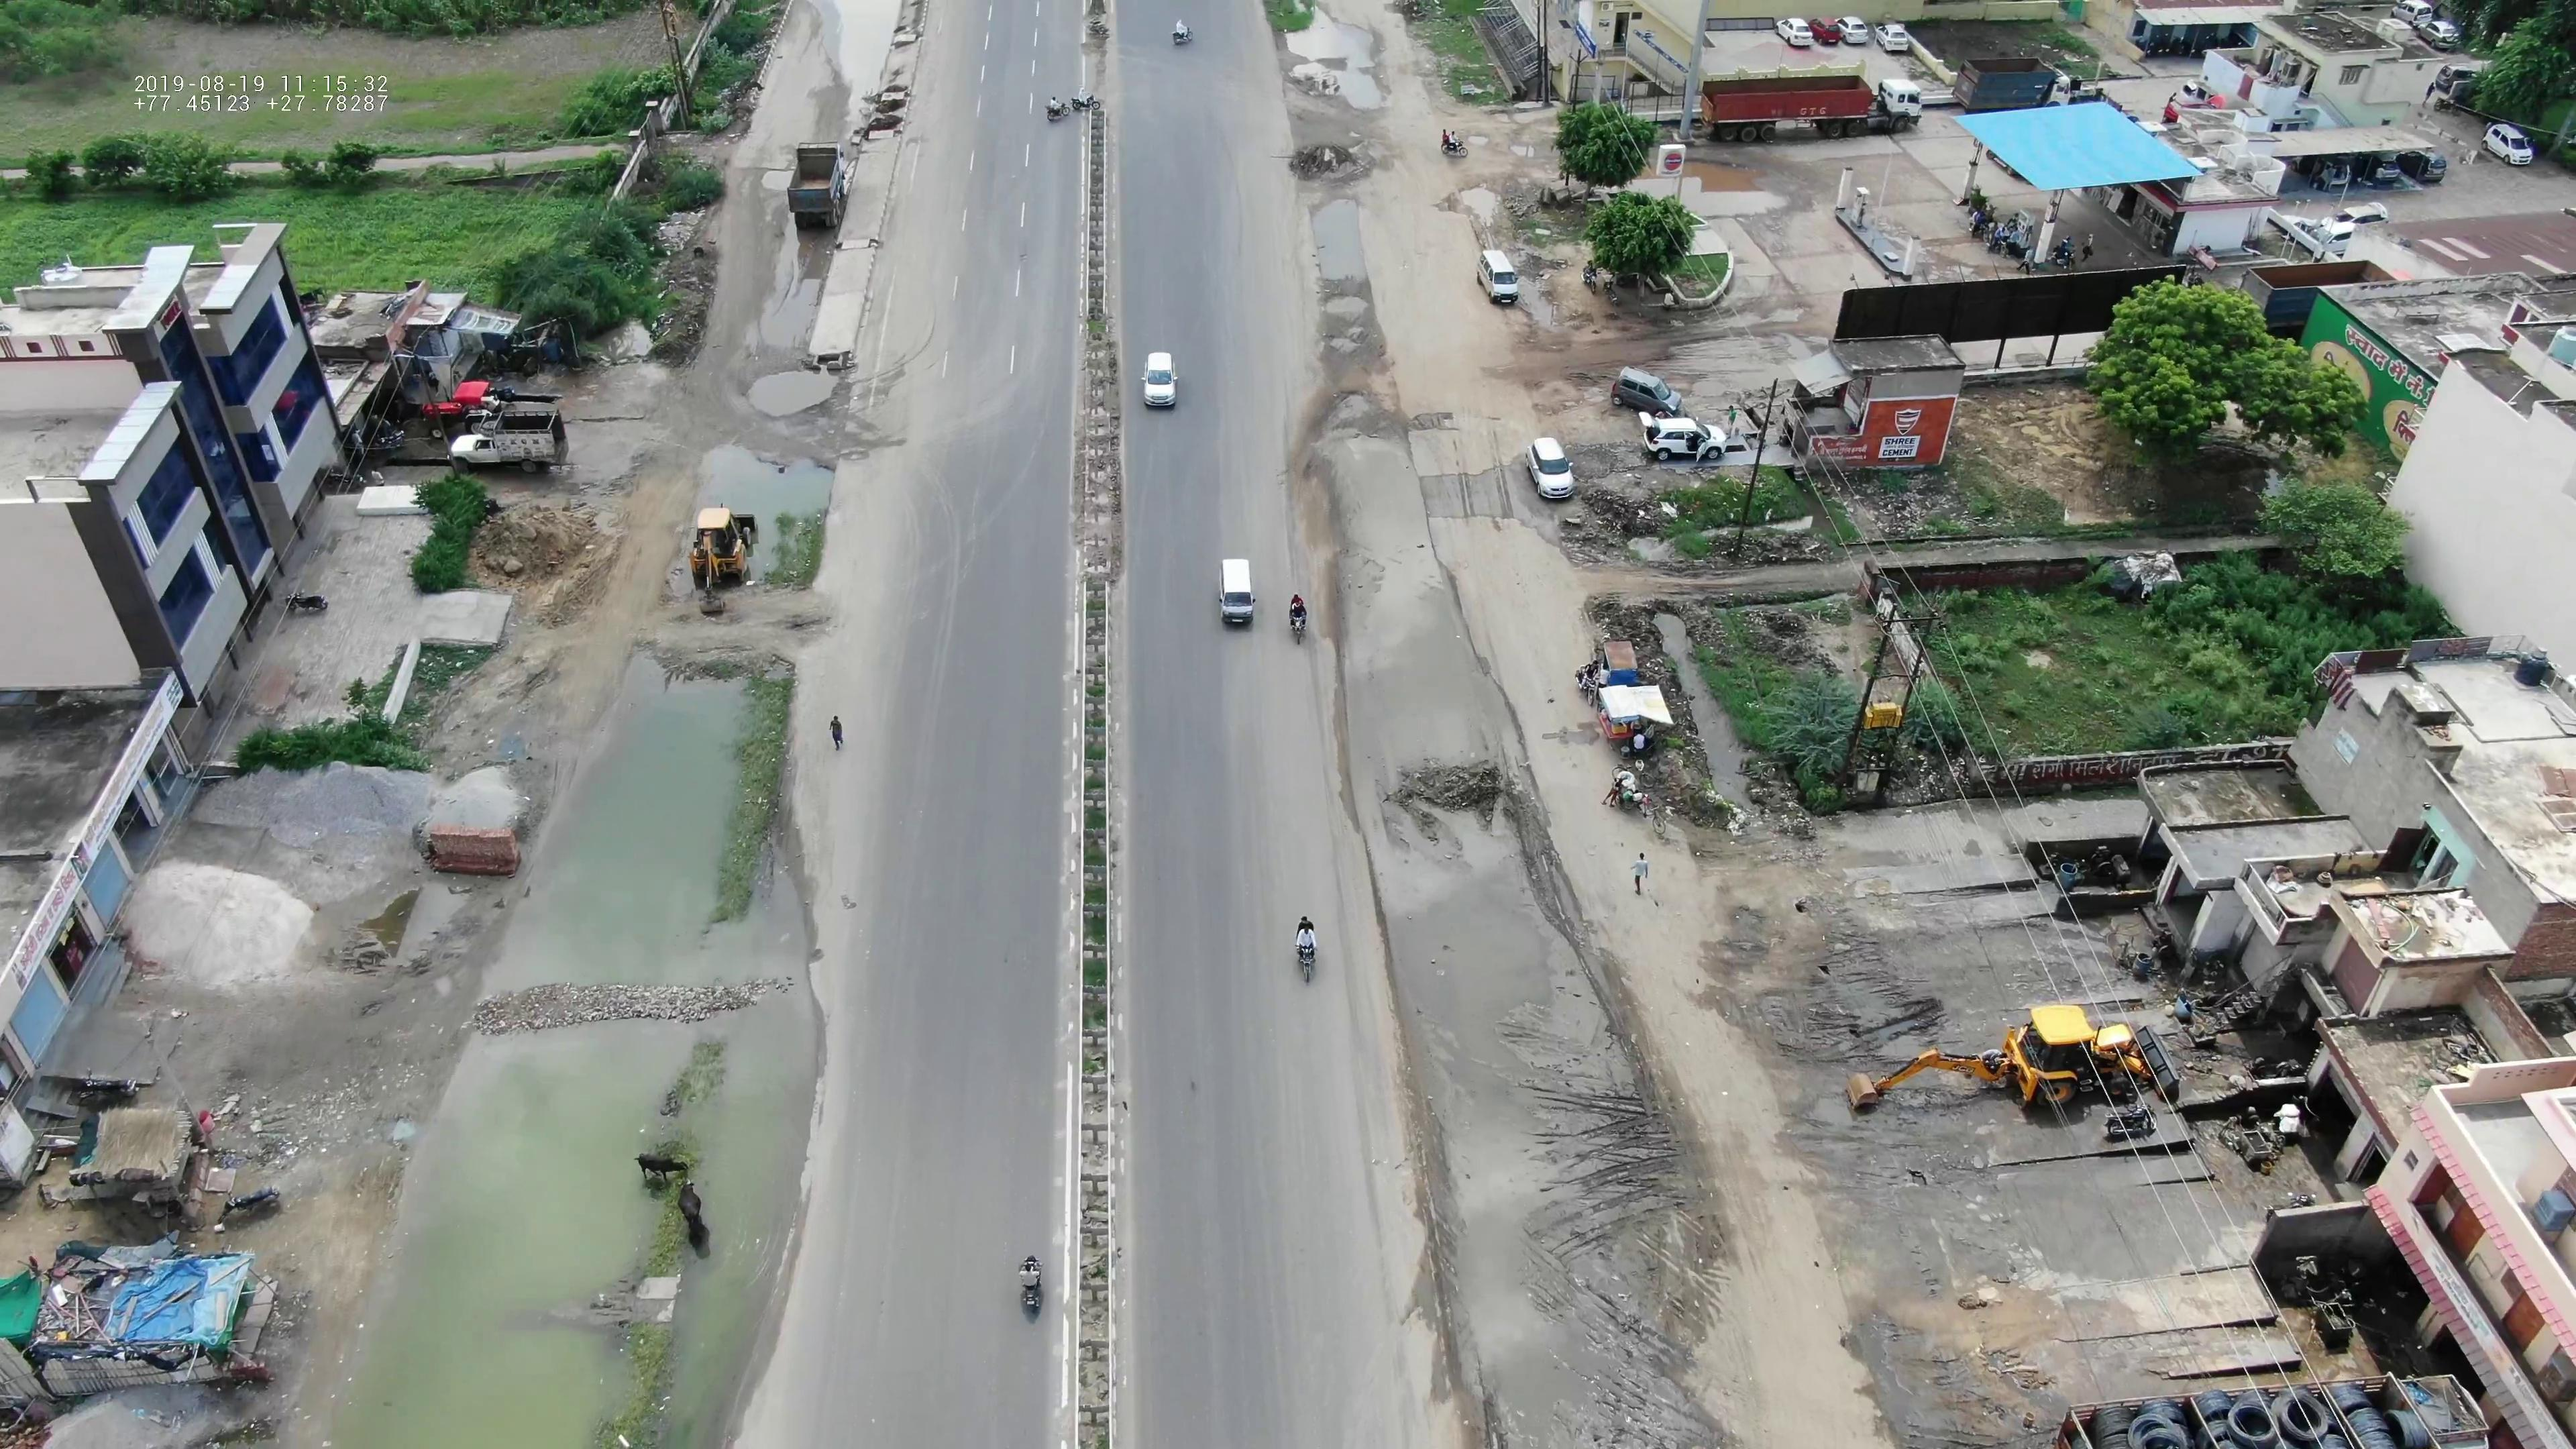Potholes: (1306, 280, 1387, 379), (740, 364, 855, 421), (1288, 375, 1387, 433)
